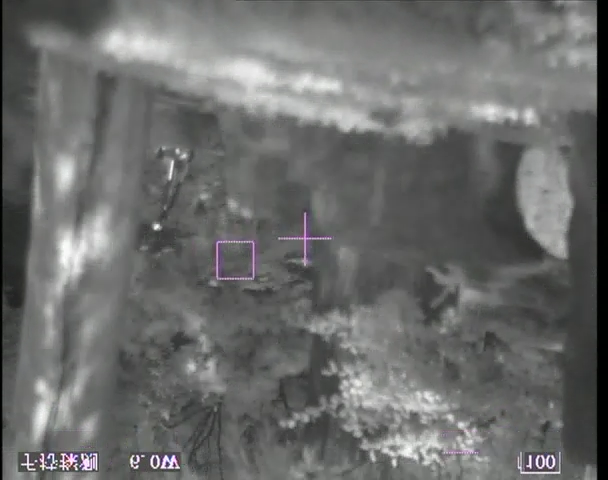my: (151, 221, 161, 232)
